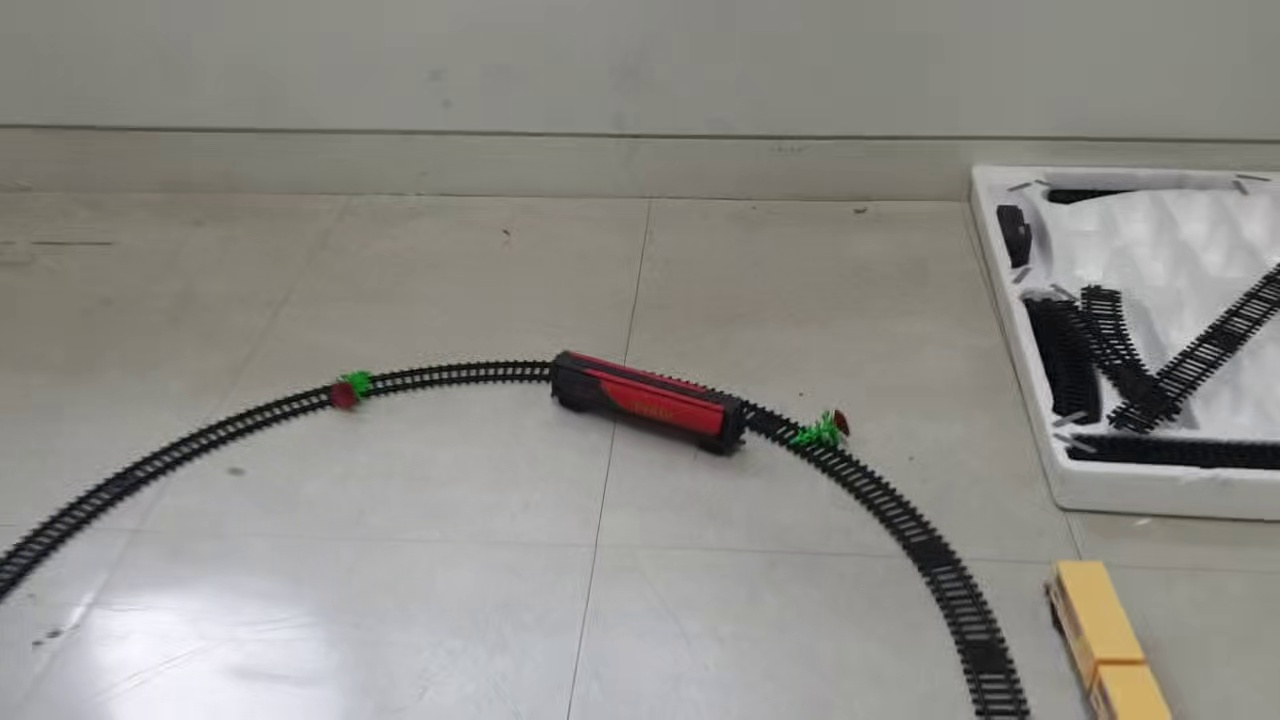tree: (787, 408, 852, 453), (323, 368, 374, 412)
